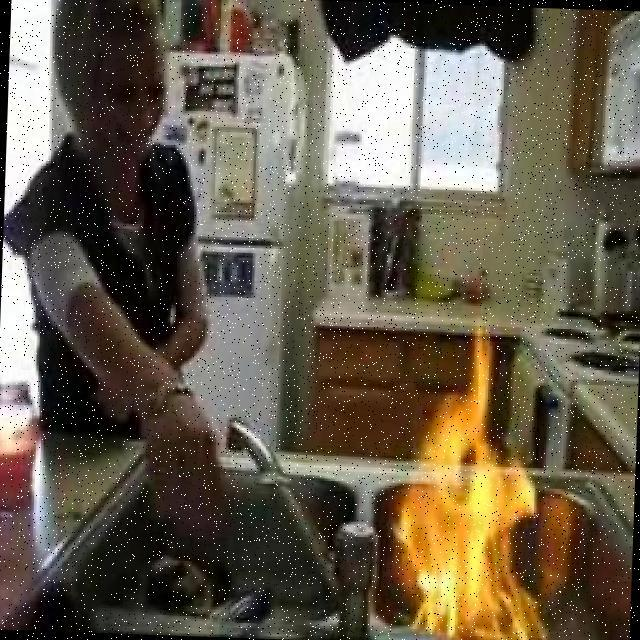Fire: (389, 338, 542, 640)
